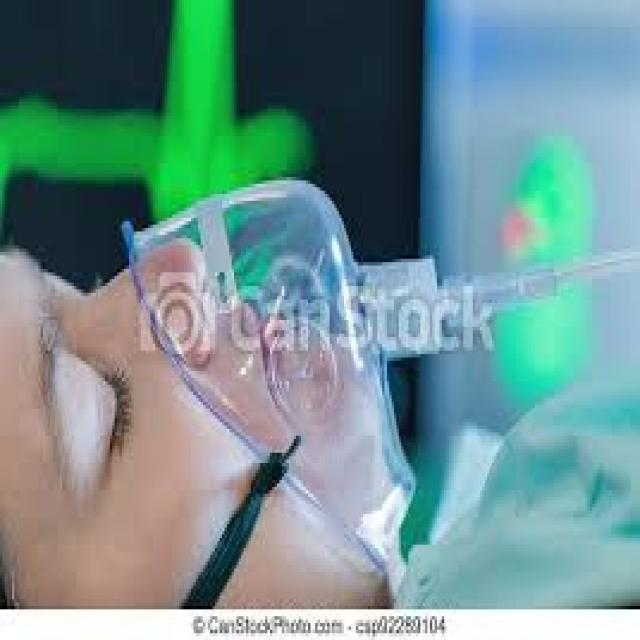oxygen_mask: (179, 171, 496, 493)
